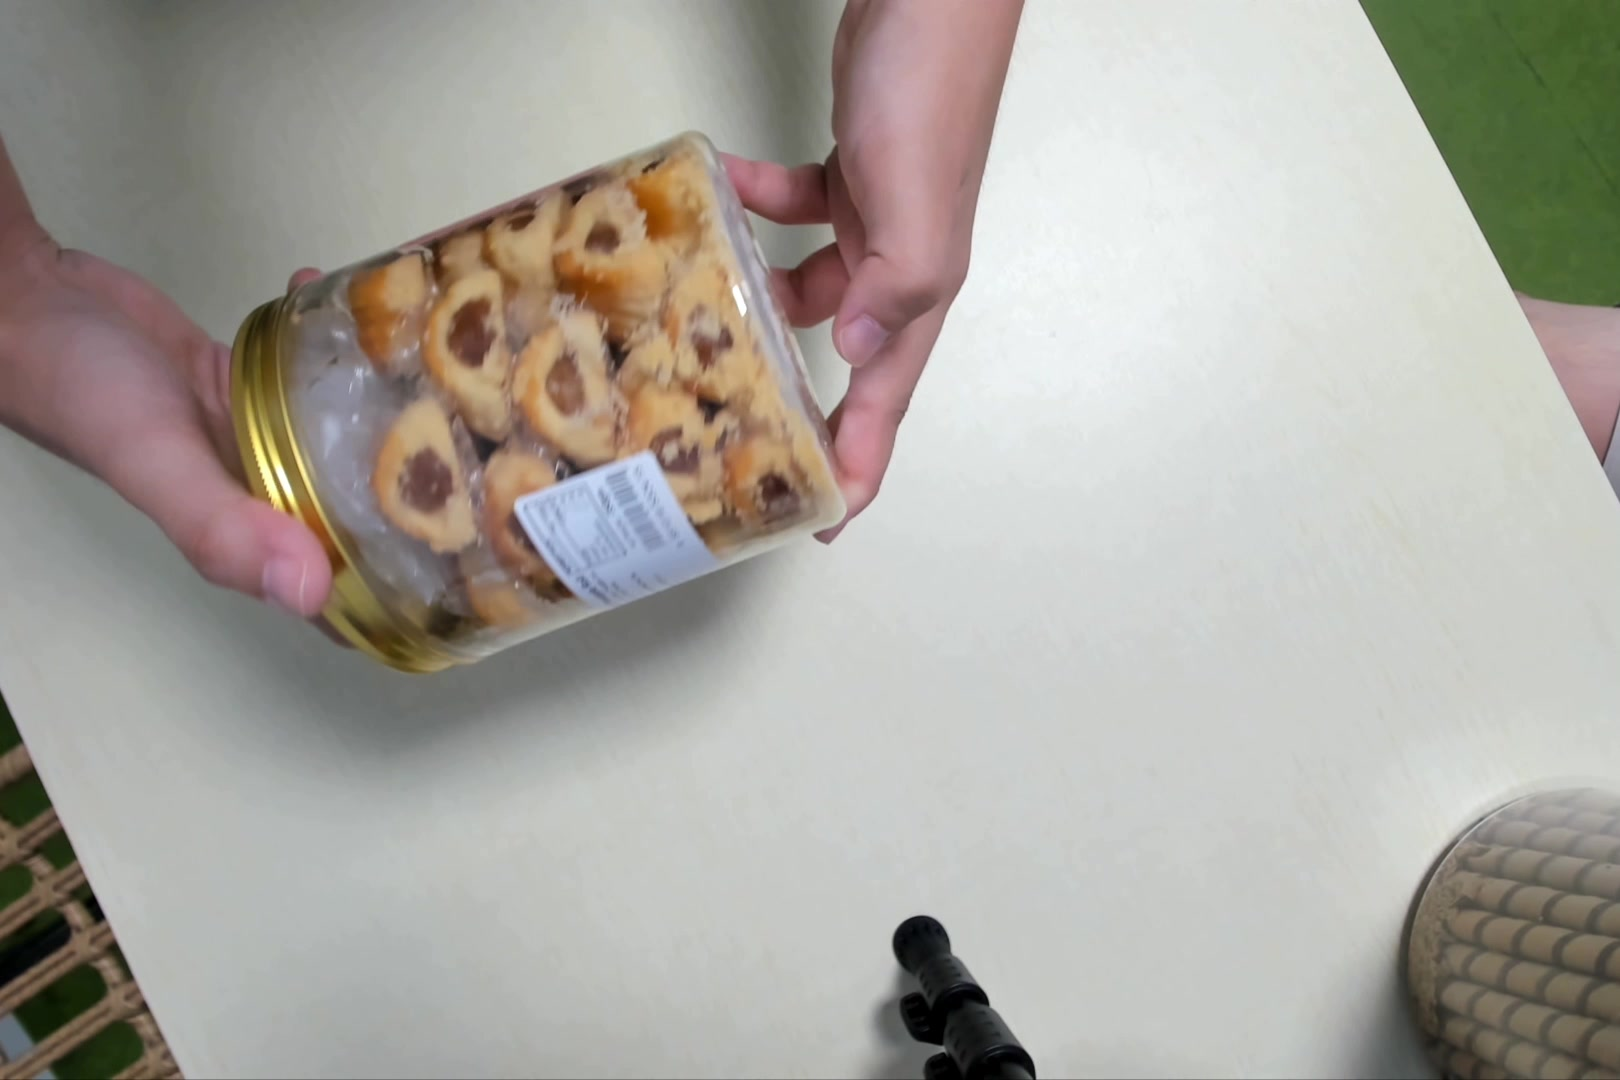BiscuitsCrackersCookies_300-399g_NonHalal_NonHealthy: (217, 124, 853, 692)
